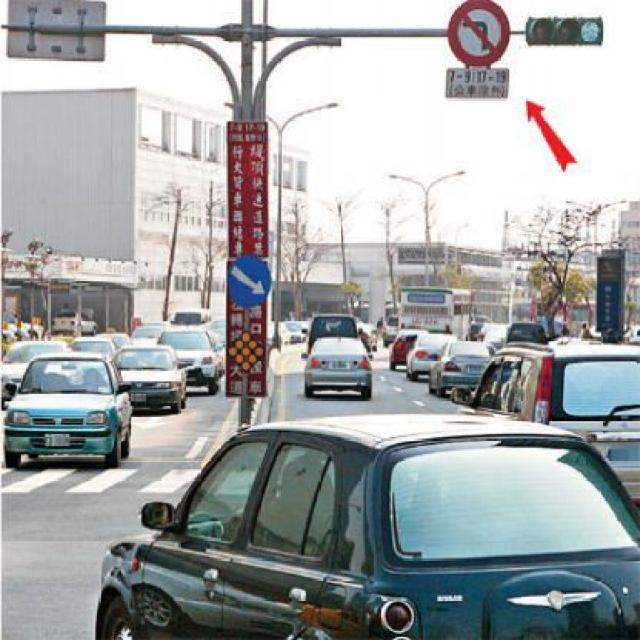right_turn: (223, 252, 277, 314)
